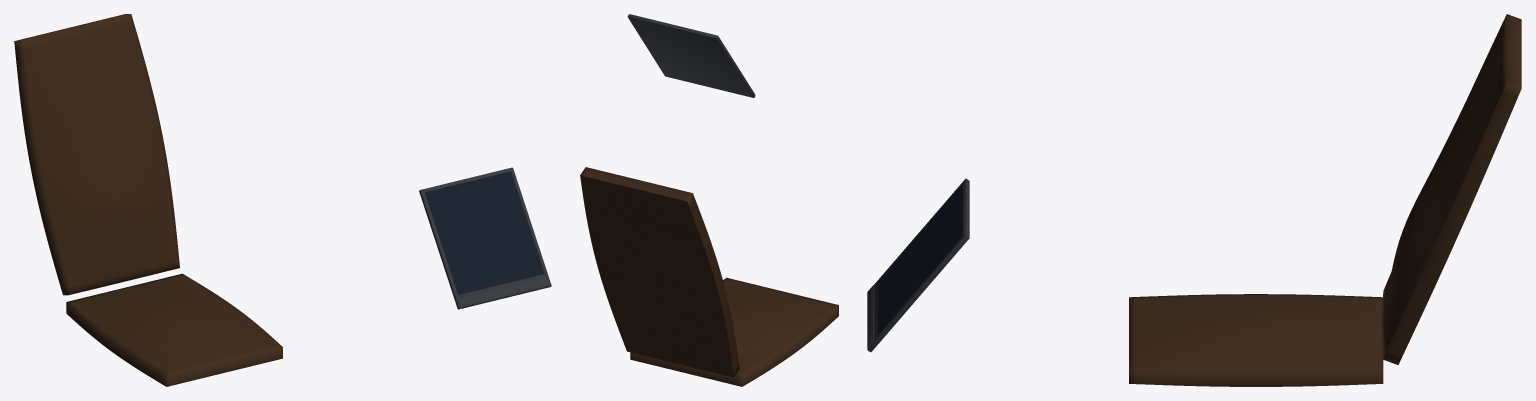
File: spike.glb
3 renders of one model, left to right at view 1: azimuth 30°, elevation 25°; view 2: azimuth 150°, elevation 25°; view 3: azimuth 270°, elevation 25°, orthographic. The views are drawn at different scales.
Parts seen in each view (by area): view 1: GEO_Seat_Front_Driver_Flutes, GEO_Dashboard_Screen_Central_OLED; view 2: GEO_Seat_Front_Driver_Flutes, GEO_Dashboard_Screen_Central_OLED; view 3: GEO_Seat_Front_Driver_Flutes, GEO_Dashboard_Screen_Central_OLED.
Part boxes in pixels (x1,y1,x2,y2): GEO_Seat_Front_Driver_Flutes: (14, 14, 282, 386); GEO_Dashboard_Screen_Central_OLED: (419, 167, 551, 309); GEO_Seat_Front_Driver_Flutes: (580, 167, 838, 386); GEO_Dashboard_Screen_Central_OLED: (627, 14, 755, 97); GEO_Seat_Front_Driver_Flutes: (1129, 14, 1521, 386); GEO_Dashboard_Screen_Central_OLED: (867, 178, 969, 352).
Bounding box in the file's own units: 0.7278 × 0.5715 × 1.13.
2 materials, 1 textured.
